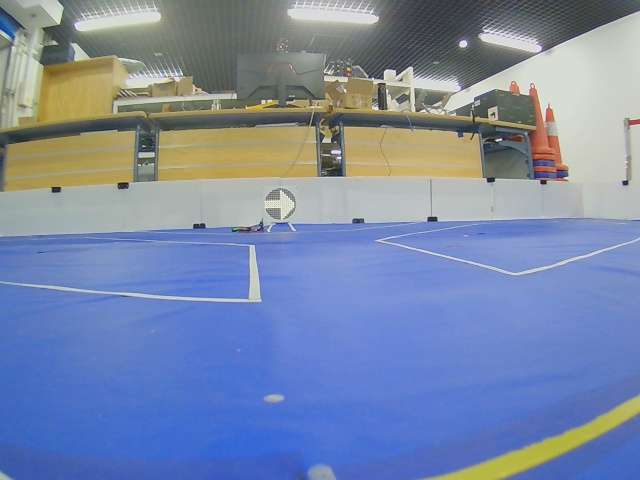right_yellow: (264, 187, 297, 221)
